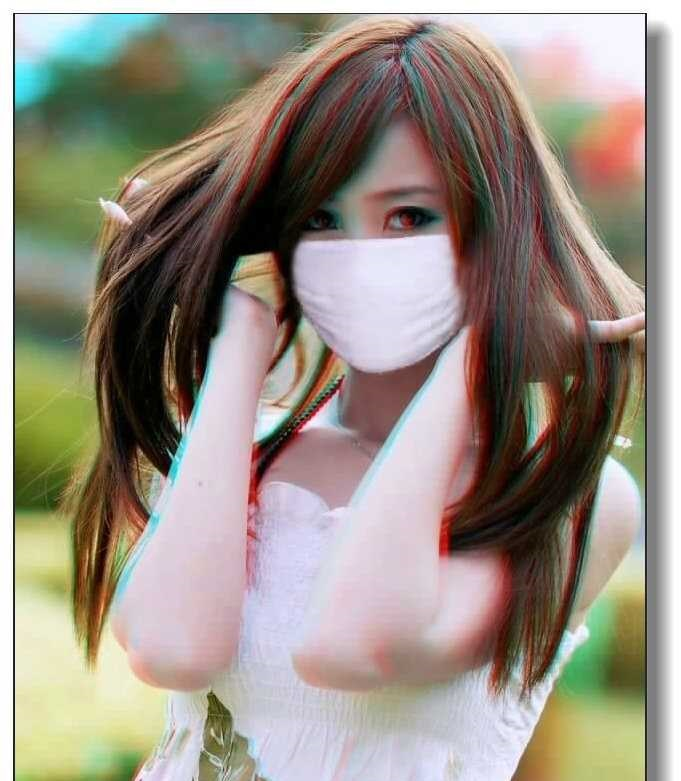face_mask: (289, 100, 464, 376)
